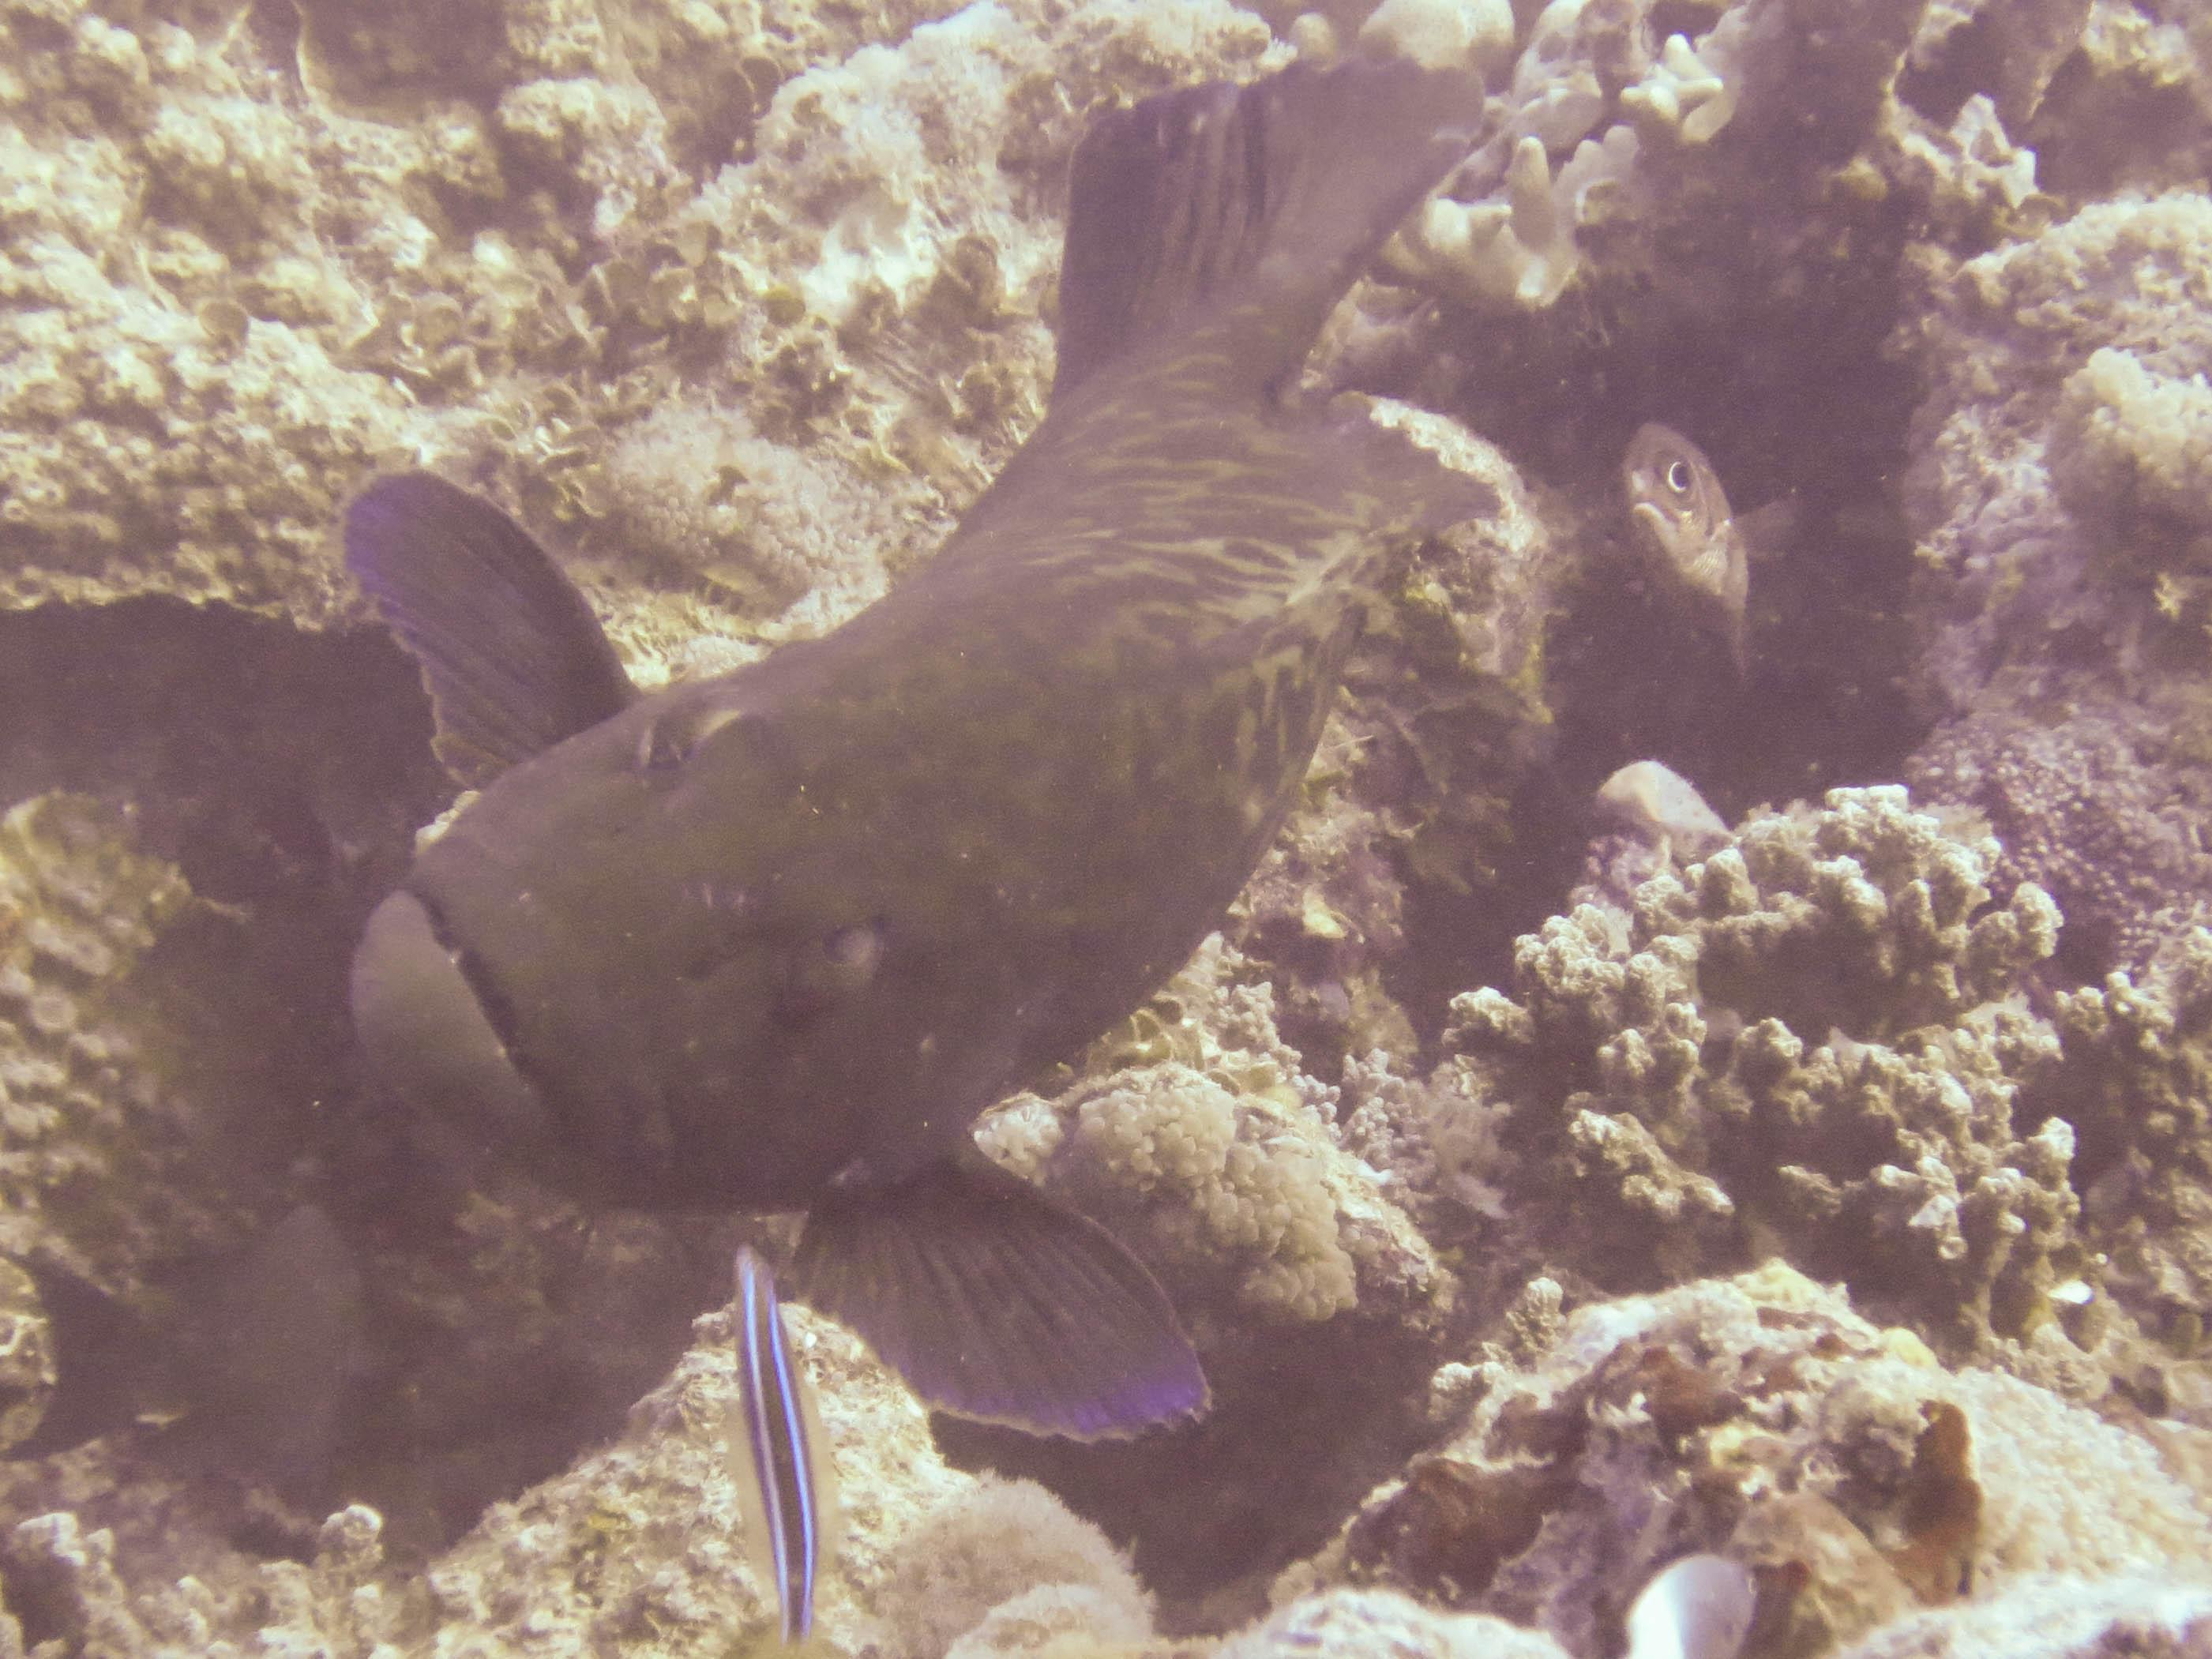Fish: (245, 32, 1556, 1553)
